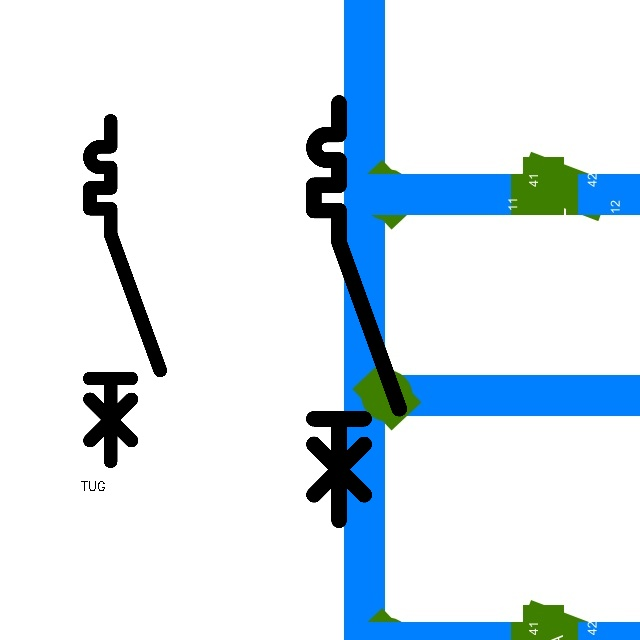interruptor_termomagnetico: (303, 92, 410, 531), (81, 112, 168, 470)
